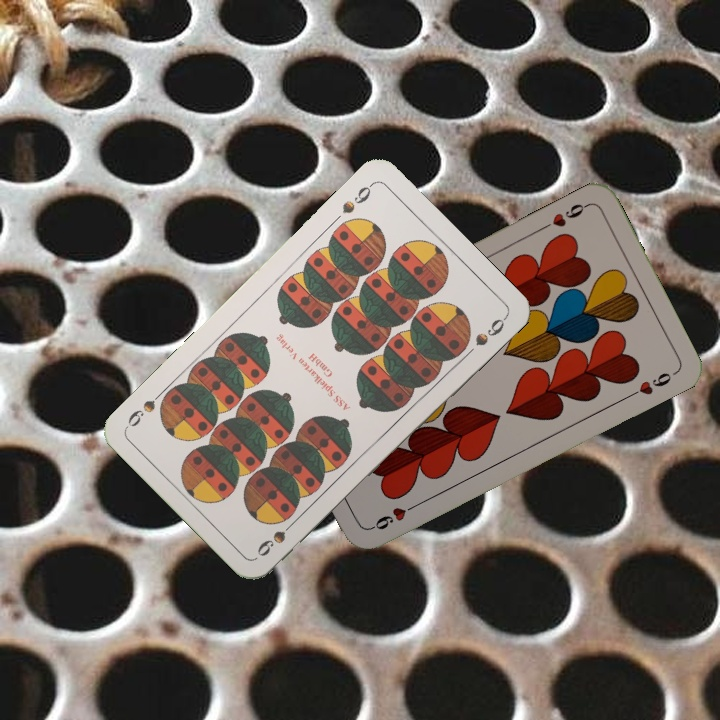H9: (537, 199, 592, 233), (365, 499, 420, 533)
S9: (253, 514, 301, 559), (338, 178, 376, 216)
